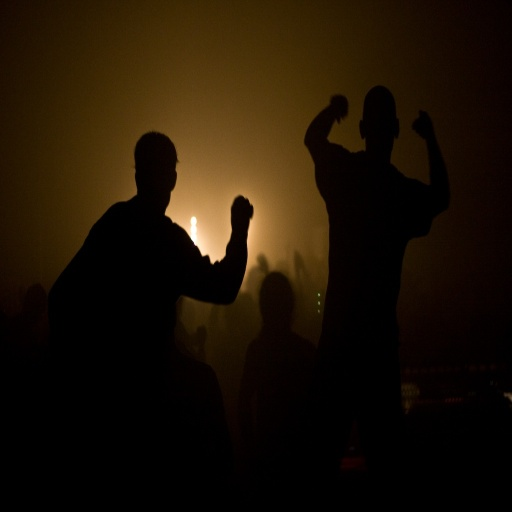hand: (213, 197, 257, 255), (328, 92, 349, 125), (412, 107, 433, 140), (28, 278, 47, 314)
